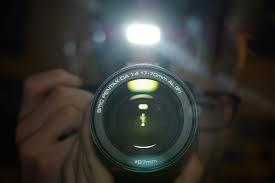flash: (86, 72, 213, 173), (112, 18, 175, 55)
lens: (87, 72, 203, 169)
